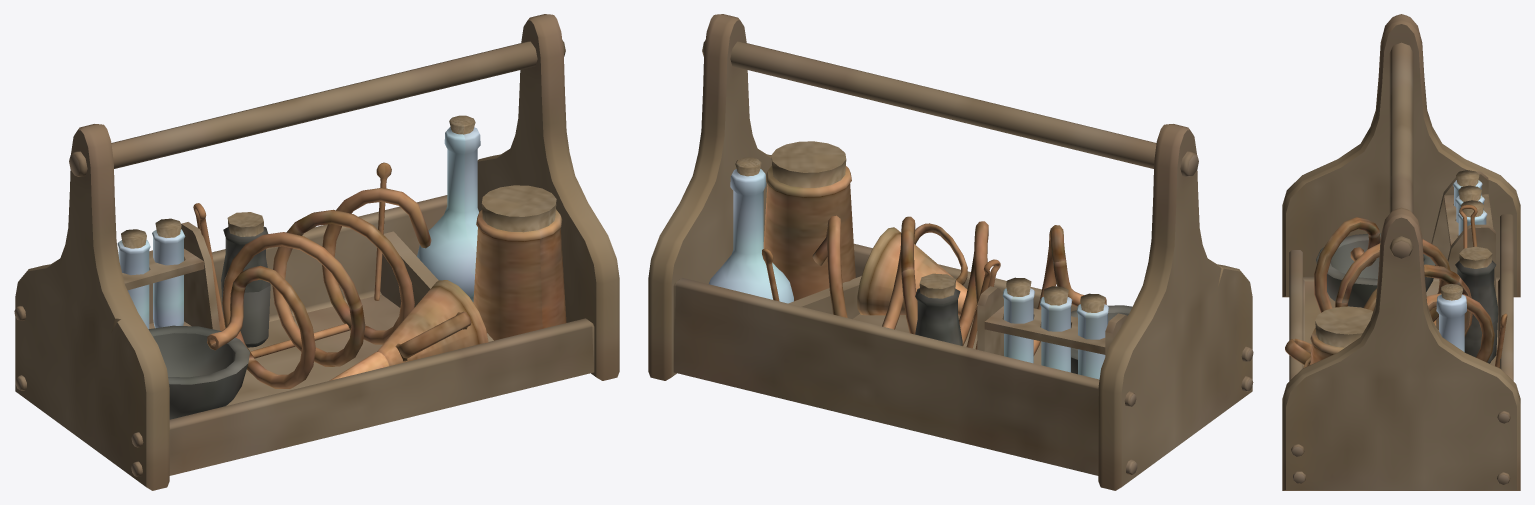
The model's file is component_scientific_instruments.glb.
The picture shows the model from 3 angles, left to right: view 1: azimuth 30°, elevation 25°; view 2: azimuth 150°, elevation 25°; view 3: azimuth 270°, elevation 25°; orthographic projection. The views are drawn at different scales.
Visible parts, largest first — view 1: npc_props_scientific_instruments_01; view 2: npc_props_scientific_instruments_01; view 3: npc_props_scientific_instruments_01.
Part boxes in pixels (x1,y1,x2,y2): npc_props_scientific_instruments_01: (14,14,619,490); npc_props_scientific_instruments_01: (648,14,1253,490); npc_props_scientific_instruments_01: (1282,14,1520,490).
Bounding box in the file's own units: 1.13 × 0.6984 × 0.5454.
1 material, 1 textured.
